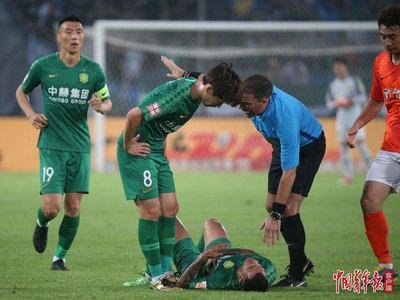bending: (115, 60, 238, 288), (240, 69, 324, 290)
down: (169, 209, 279, 291)
up: (15, 13, 114, 275), (339, 5, 400, 286)
